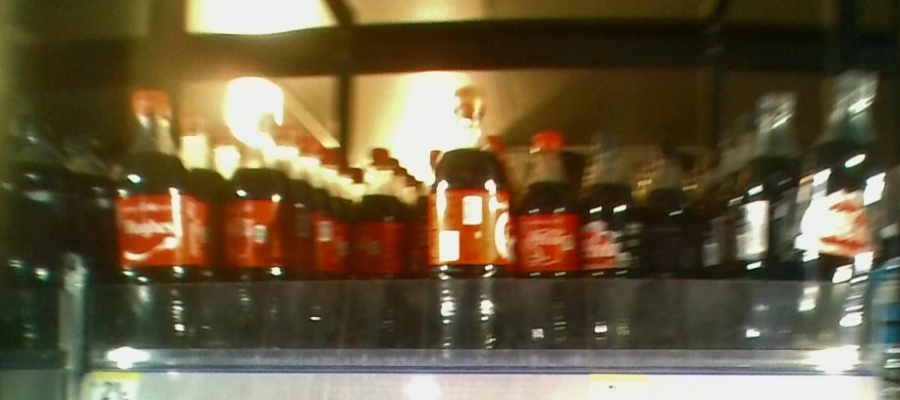bottle: (794, 68, 887, 357), (111, 82, 199, 353), (429, 82, 505, 361), (223, 117, 295, 343), (513, 126, 578, 344), (582, 123, 643, 344), (351, 126, 408, 337), (645, 135, 701, 345)
